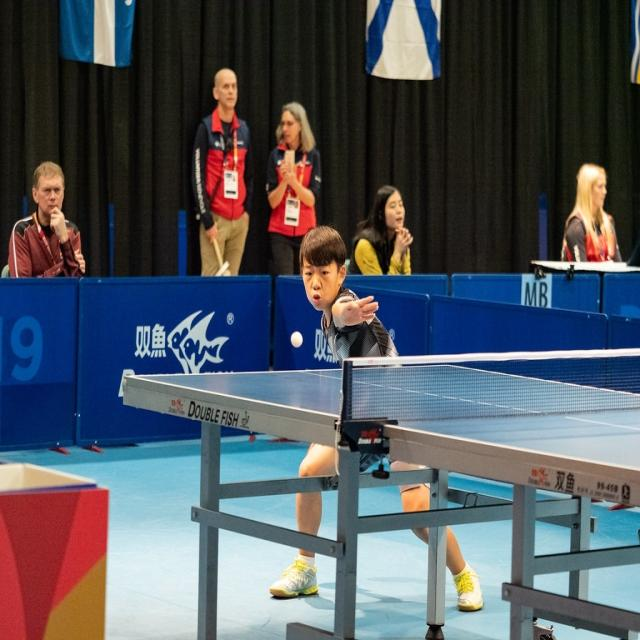TT Net: (336, 344, 640, 430)
TT Table: (128, 298, 640, 473)
